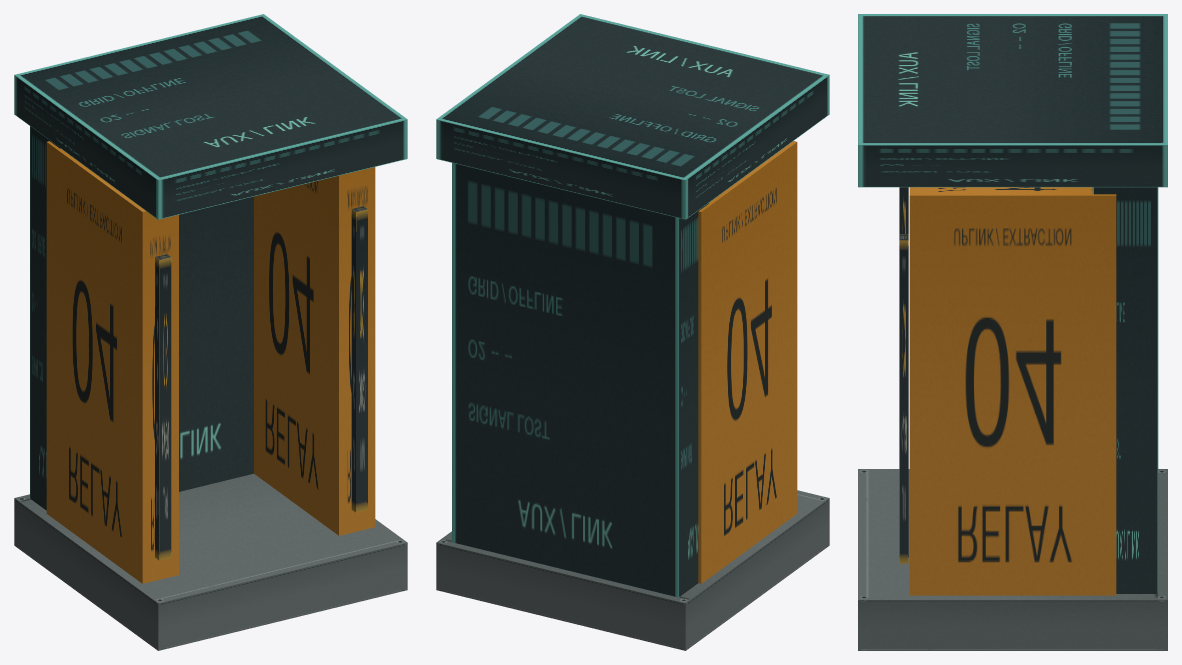
Rendered from purification_pod_LOD3.obj.
The picture shows the model from 3 angles, left to right: view 1: azimuth 30°, elevation 25°; view 2: azimuth 150°, elevation 25°; view 3: azimuth 270°, elevation 25°; orthographic projection. The views are drawn at different scales.
Parts seen in each view (by area): view 1: L02_purification_pod_LOD3; view 2: L02_purification_pod_LOD3; view 3: L02_purification_pod_LOD3.
Boxes of the visible parts, <box> form: L02_purification_pod_LOD3: <box>14,14,407,650</box>; L02_purification_pod_LOD3: <box>436,14,829,650</box>; L02_purification_pod_LOD3: <box>858,14,1167,650</box>.
Bounding box in the file's own units: 1.65 × 2.97 × 1.65.
Materials: 1 (1 with a texture image).
